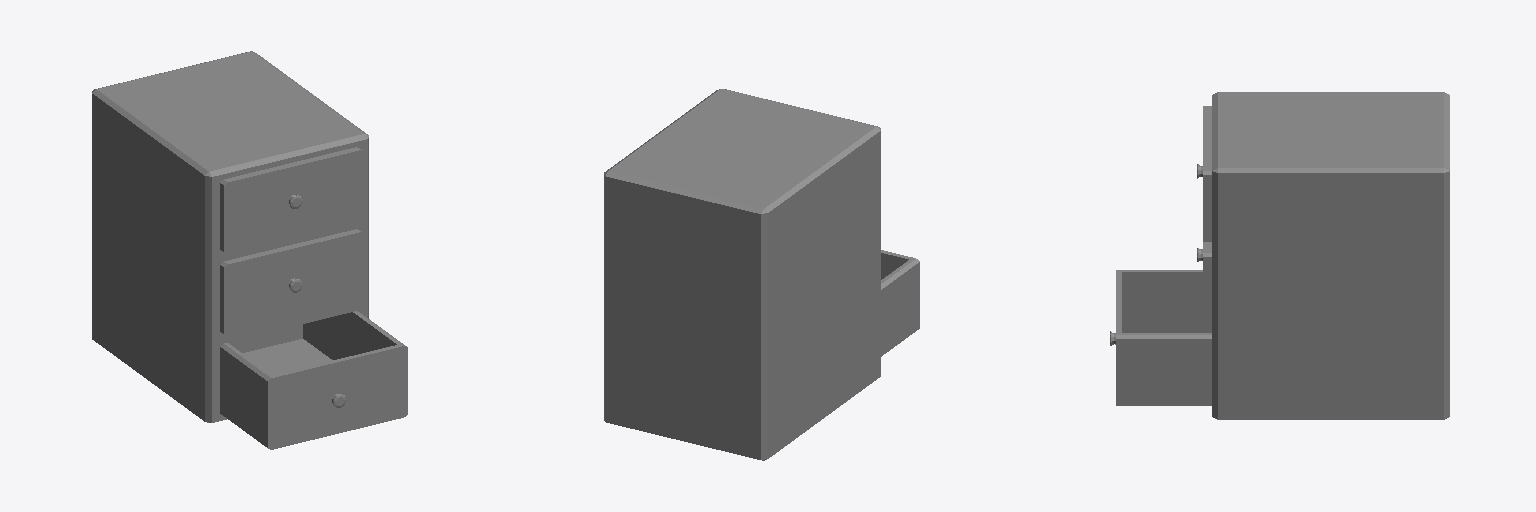
The model's file is drawer.obj.
The picture shows the model from 3 angles: view 1: azimuth 30°, elevation 25°; view 2: azimuth 150°, elevation 25°; view 3: azimuth 270°, elevation 25°; orthographic projection.
Parts seen in each view (by area): view 1: Cylinder016; view 2: Cylinder016; view 3: Cylinder016.
Boxes of the visible parts, x1,y1,x2,y2 form: Cylinder016: [92, 51, 407, 449]; Cylinder016: [604, 89, 919, 460]; Cylinder016: [1110, 92, 1449, 419].
Size of the model in its own units: 101 by 148 by 181.